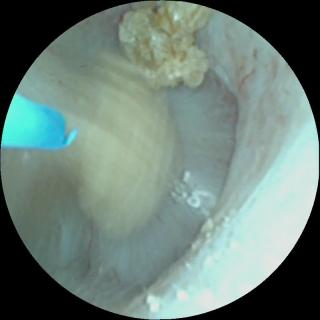fiber: (121, 6, 210, 89)
stone: (4, 96, 76, 148)
